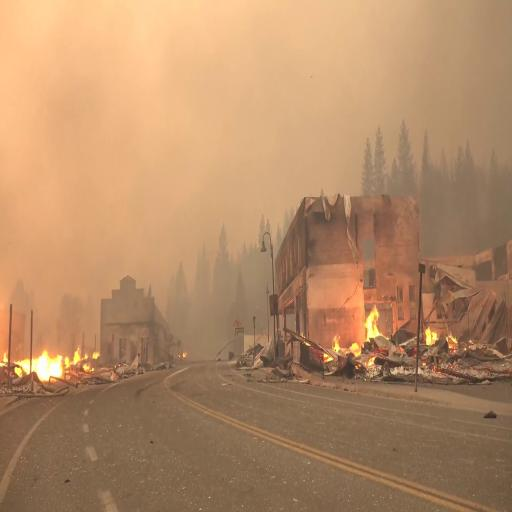fire: (19, 332, 65, 391), (366, 305, 378, 346)
